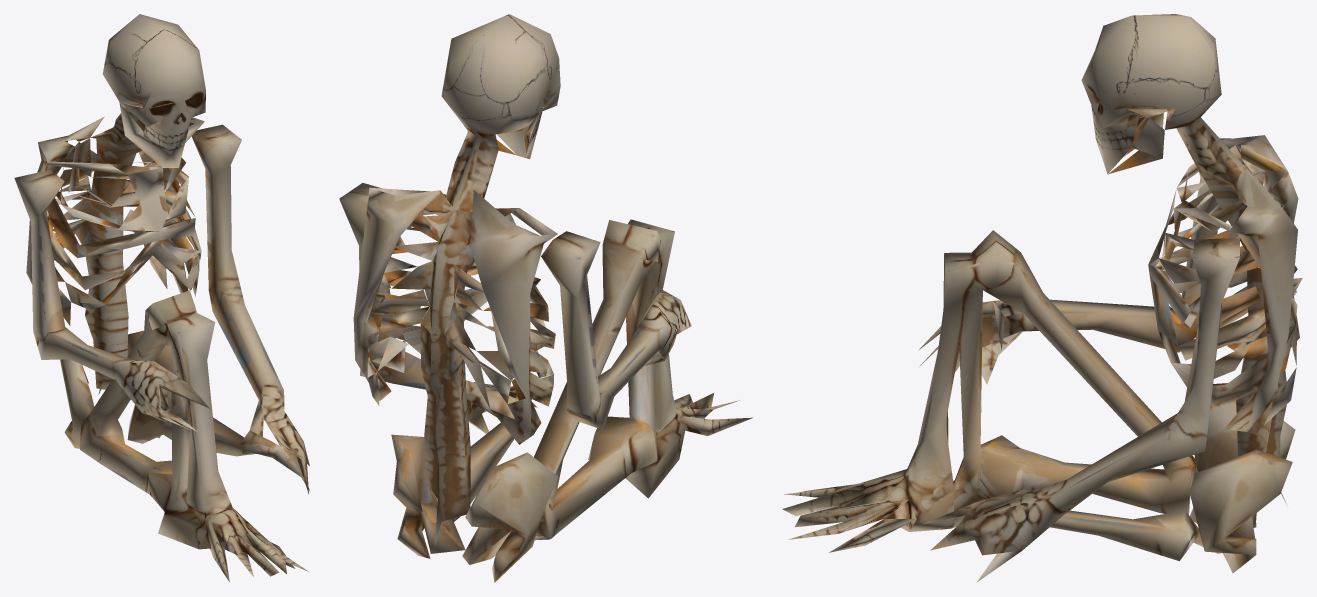
File: sitting skeleton ex.fbx
The picture shows the model from 3 angles, left to right: view 1: azimuth 30°, elevation 25°; view 2: azimuth 150°, elevation 25°; view 3: azimuth 270°, elevation 25°; orthographic projection. The views are drawn at different scales.
Visible parts, largest first — view 1: tripo_node_68a375ec; view 2: tripo_node_68a375ec; view 3: tripo_node_68a375ec.
Part boxes in pixels (bbox=[...]): tripo_node_68a375ec: bbox=[14, 14, 310, 582]; tripo_node_68a375ec: bbox=[339, 14, 752, 582]; tripo_node_68a375ec: bbox=[782, 14, 1302, 582].
Size of the model in its own units: 45.85 by 94.1 by 82.77.
Materials: 1 (1 with a texture image).
